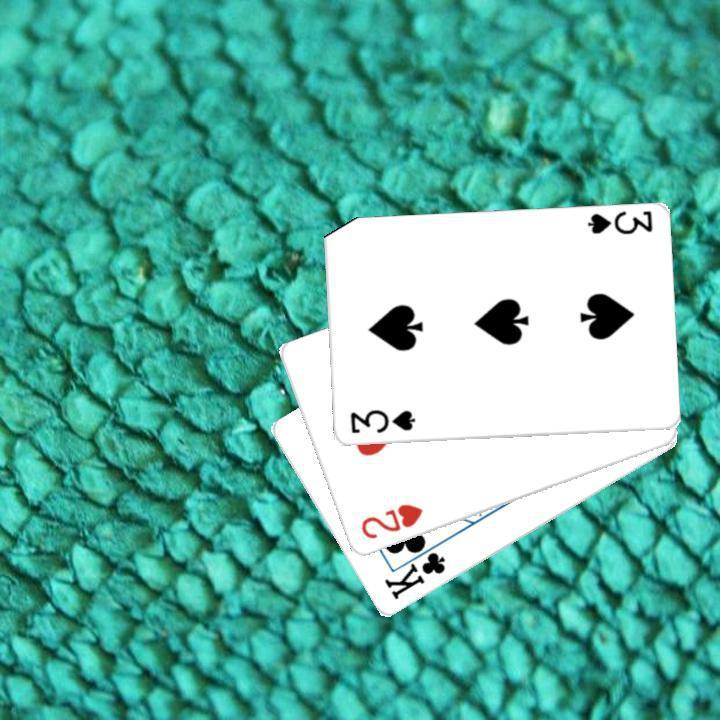2: (356, 500, 425, 542)
3: (345, 406, 417, 436), (583, 207, 654, 237)
K: (379, 536, 447, 602)
